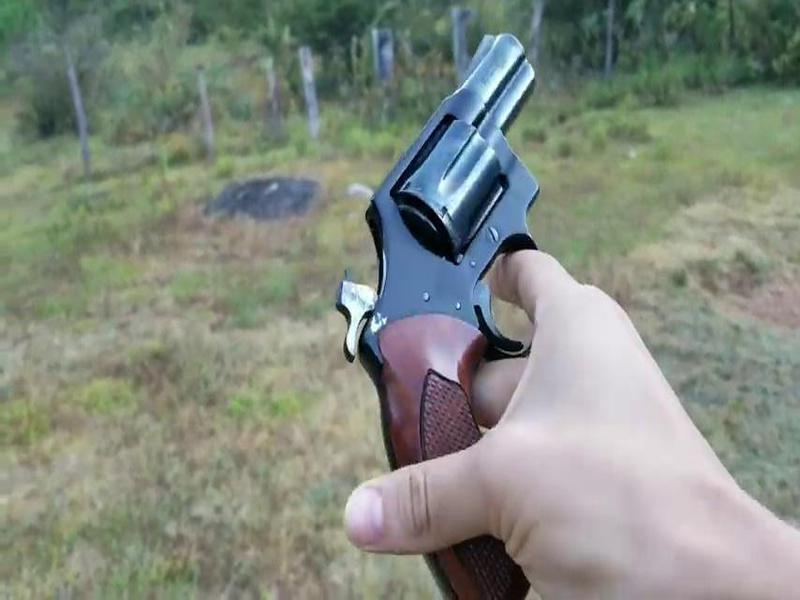Revolver: (341, 34, 564, 509)
